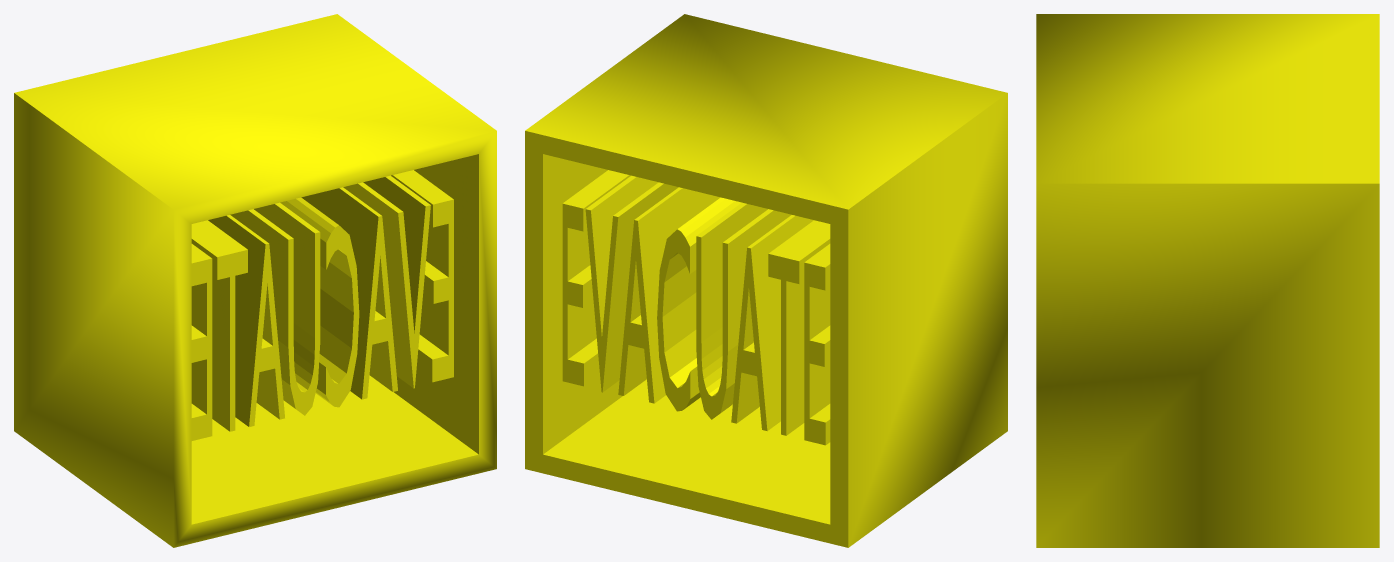
The model's file is EvacuateHighlight.fbx.
3 views of the same model, side by side, from view 1: azimuth 30°, elevation 25°; view 2: azimuth 150°, elevation 25°; view 3: azimuth 270°, elevation 25° (orthographic). The views are drawn at different scales.
Parts seen in each view (by area): view 1: EvacuateHighlight; view 2: EvacuateHighlight; view 3: EvacuateHighlight.
Part boxes in pixels (bbox=[...]): EvacuateHighlight: bbox=[14, 14, 496, 547]; EvacuateHighlight: bbox=[525, 14, 1007, 547]; EvacuateHighlight: bbox=[1036, 14, 1379, 547].
Bounding box in the file's own units: 224 × 224 × 191.
